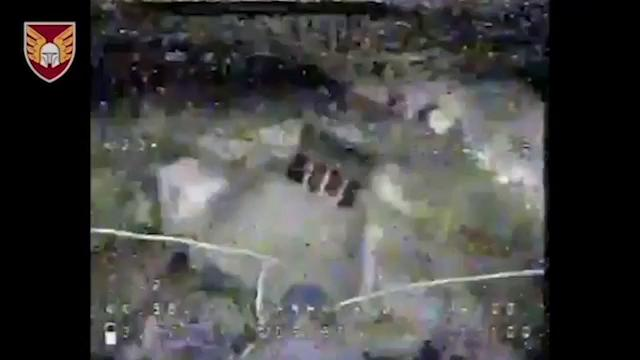tank: (152, 96, 454, 349)
